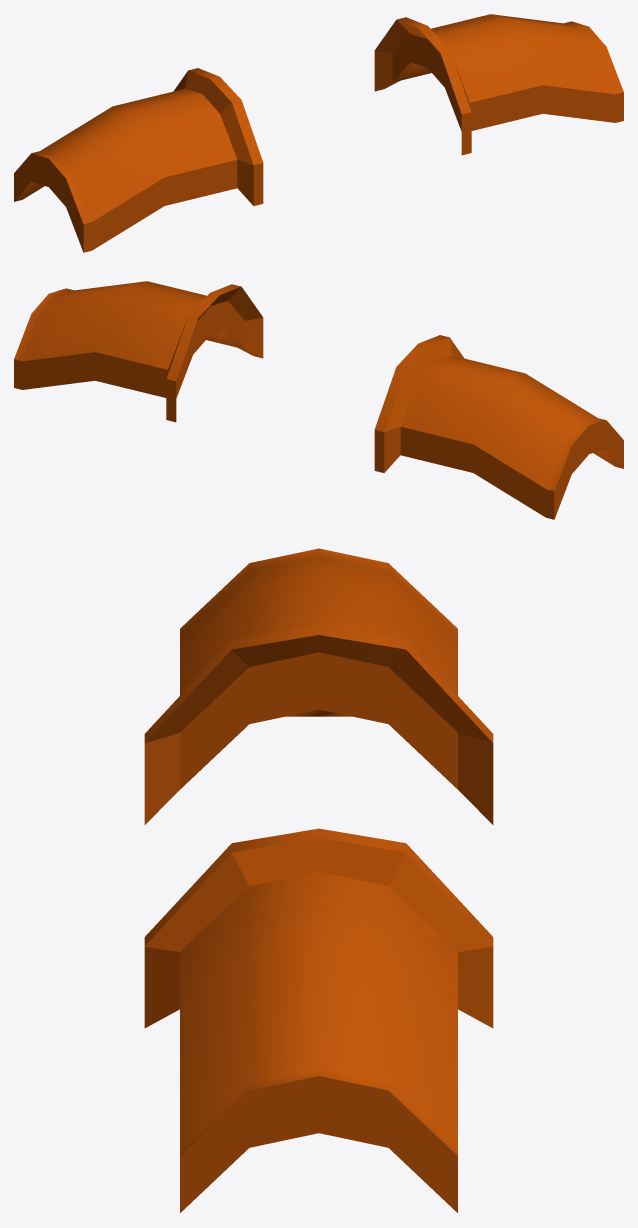
The model's file is ShoulderPads.fbx.
The picture shows the model from 3 angles, top to bottom: view 1: azimuth 30°, elevation 25°; view 2: azimuth 150°, elevation 25°; view 3: azimuth 270°, elevation 25°; orthographic projection. The views are drawn at different scales.
Parts seen in each view (by area): view 1: polySurface76, polySurface77; view 2: polySurface76, polySurface77; view 3: polySurface77, polySurface76.
Boxes of the visible parts, x1,y1,x2,y2 form: polySurface76: [14, 68, 263, 252]; polySurface77: [374, 14, 623, 155]; polySurface76: [374, 335, 623, 519]; polySurface77: [14, 281, 263, 422]; polySurface77: [144, 828, 493, 1212]; polySurface76: [144, 548, 493, 824].
Bounding box in the file's own units: 328 × 63.31 × 91.81.
